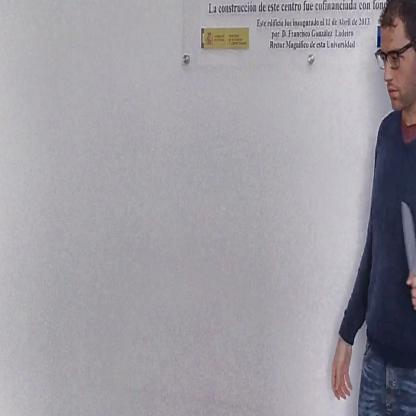knife: (398, 194, 416, 321)
